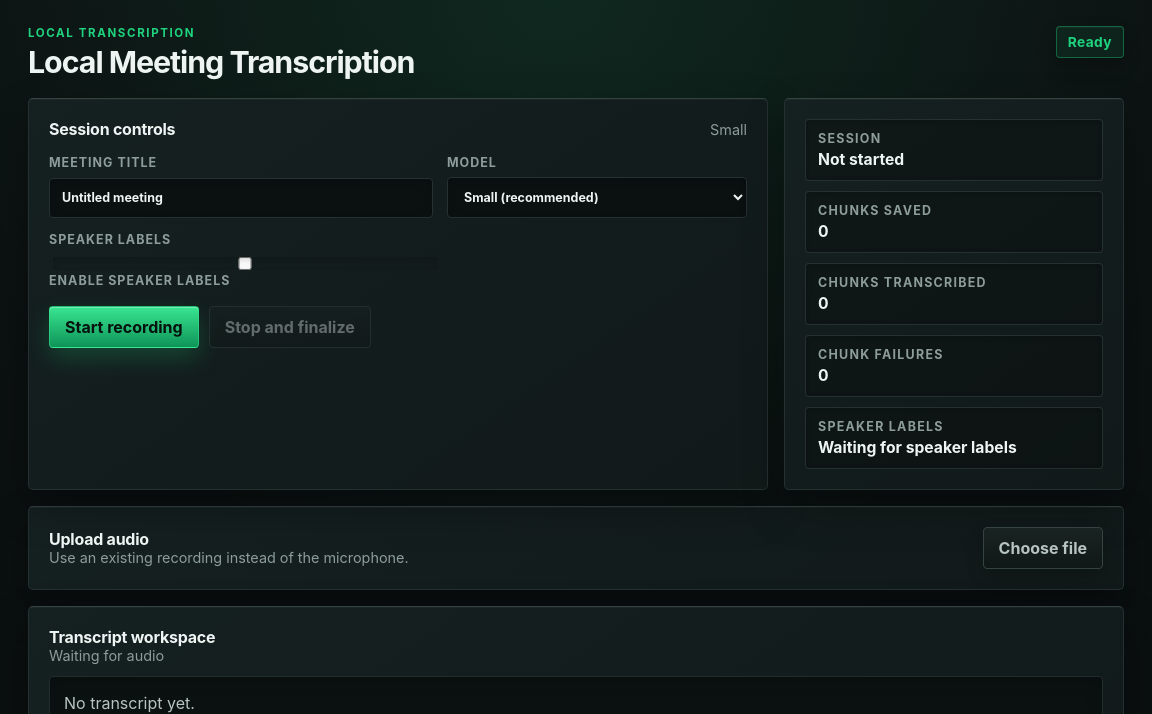
Test: App › keeps the previous transcript when recorder start fails
Click the button "Start recording" at [124, 327], box [49,306,199,348]
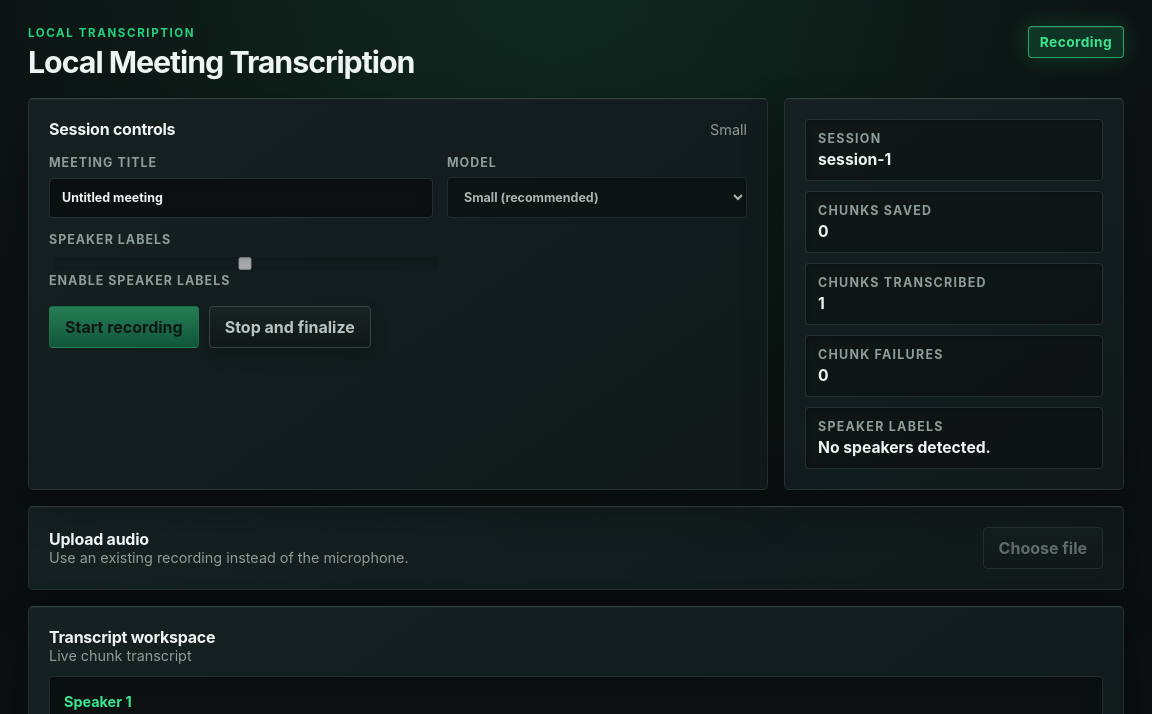
Click the button "Stop and finalize" at [290, 327], box [209,306,371,348]
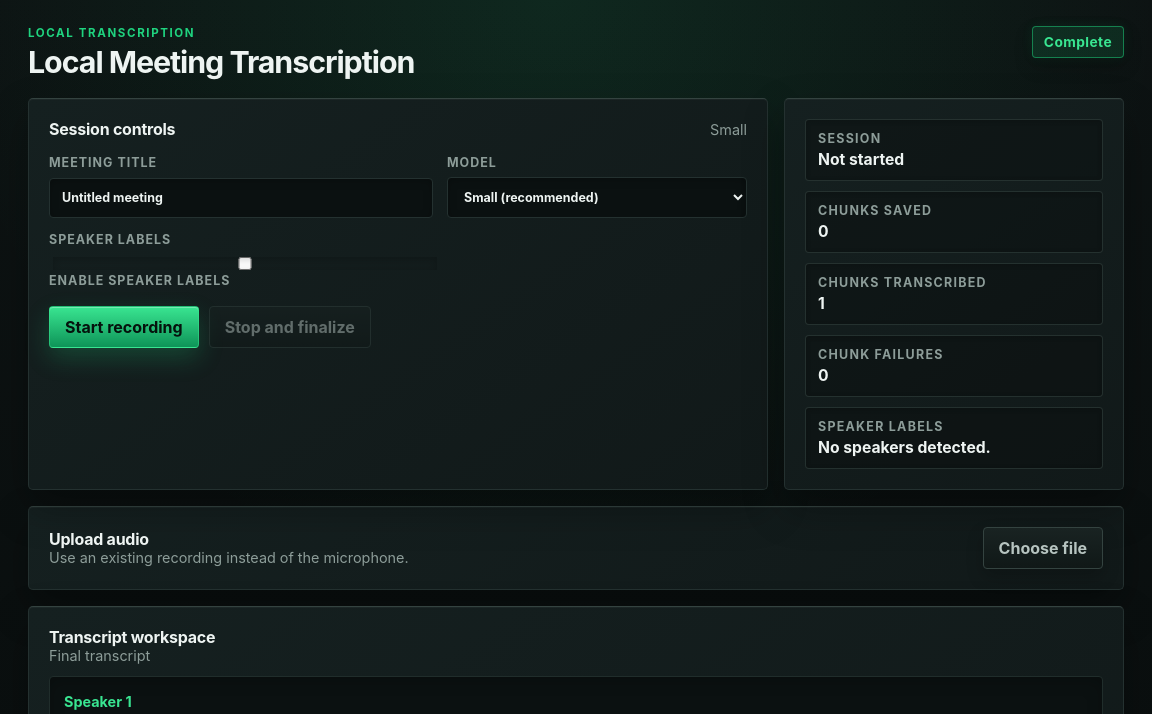
Click the button "Start recording" at [124, 327], box [49,306,199,348]
(page scrolled)
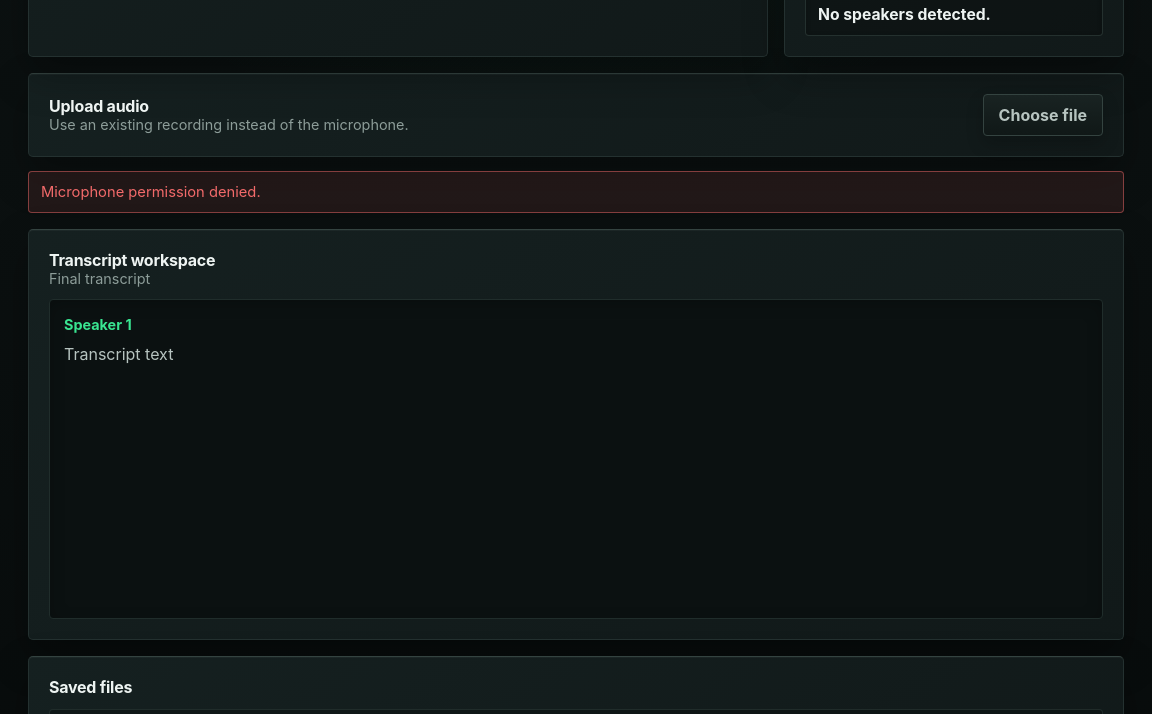
Result: the text "Transcript text" is shown at [64,344,173,364]
Result: the message reads "Microphone permission denied." at [41,183,261,201]
